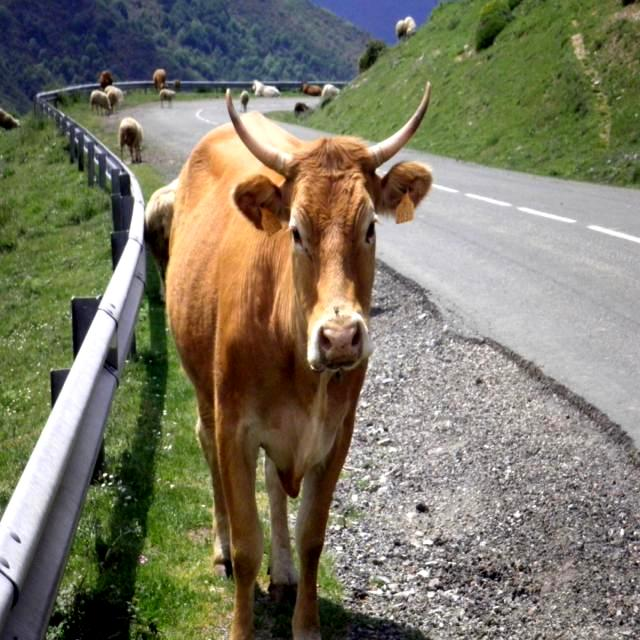COW: (166, 87, 432, 638)
